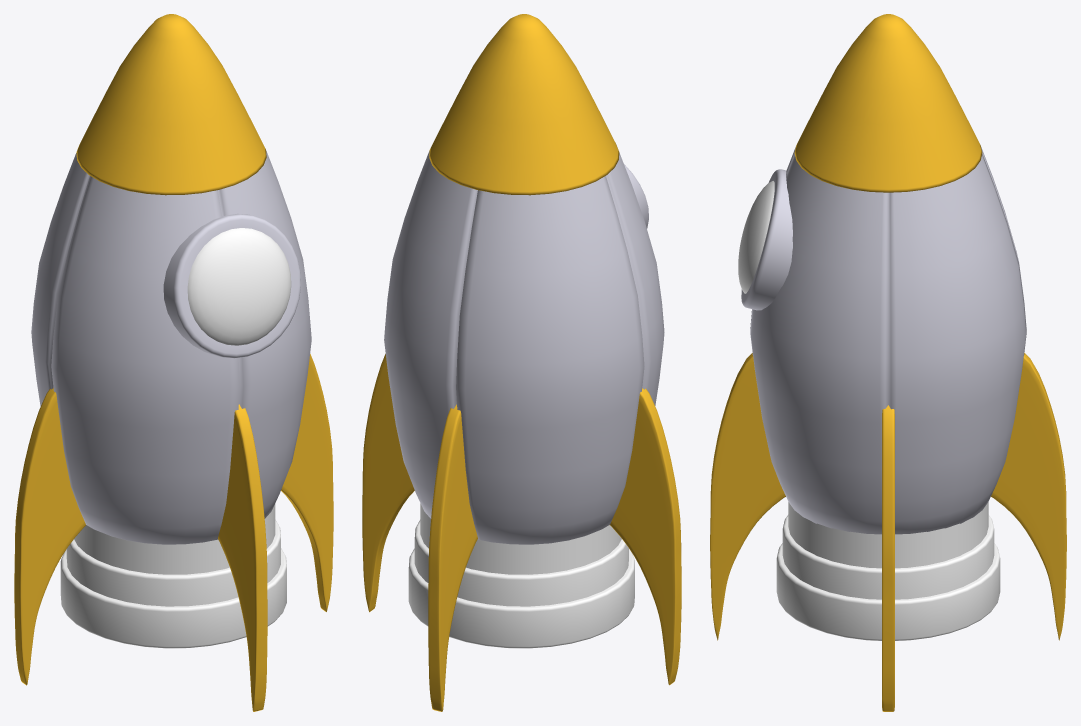
The model's file is Toy_Rocket3.2.gltf.
3 renders of one model, left to right at view 1: azimuth 30°, elevation 25°; view 2: azimuth 150°, elevation 25°; view 3: azimuth 270°, elevation 25°, orthographic.
Visible parts, largest first — view 1: Body, Wings, Tip, Engine, Window.001, Window; view 2: Body, Wings, Tip, Engine; view 3: Body, Wings, Tip, Engine, Window, Window.001.
Part boxes in pixels (x1,y1,x2,y2): Body: [31, 150, 311, 544]; Wings: [14, 354, 333, 711]; Tip: [76, 14, 266, 195]; Engine: [60, 504, 286, 648]; Window.001: [187, 228, 291, 345]; Window: [163, 213, 300, 358]; Body: [384, 150, 664, 544]; Wings: [362, 354, 681, 711]; Tip: [429, 14, 619, 195]; Engine: [408, 503, 634, 648]; Body: [750, 147, 1026, 534]; Wings: [710, 353, 1066, 711]; Tip: [794, 14, 982, 192]; Engine: [776, 502, 1000, 640]; Window: [741, 169, 792, 310]; Window.001: [738, 181, 774, 293].
Size of the model in its own units: 1.63 by 3.12 by 1.63.
